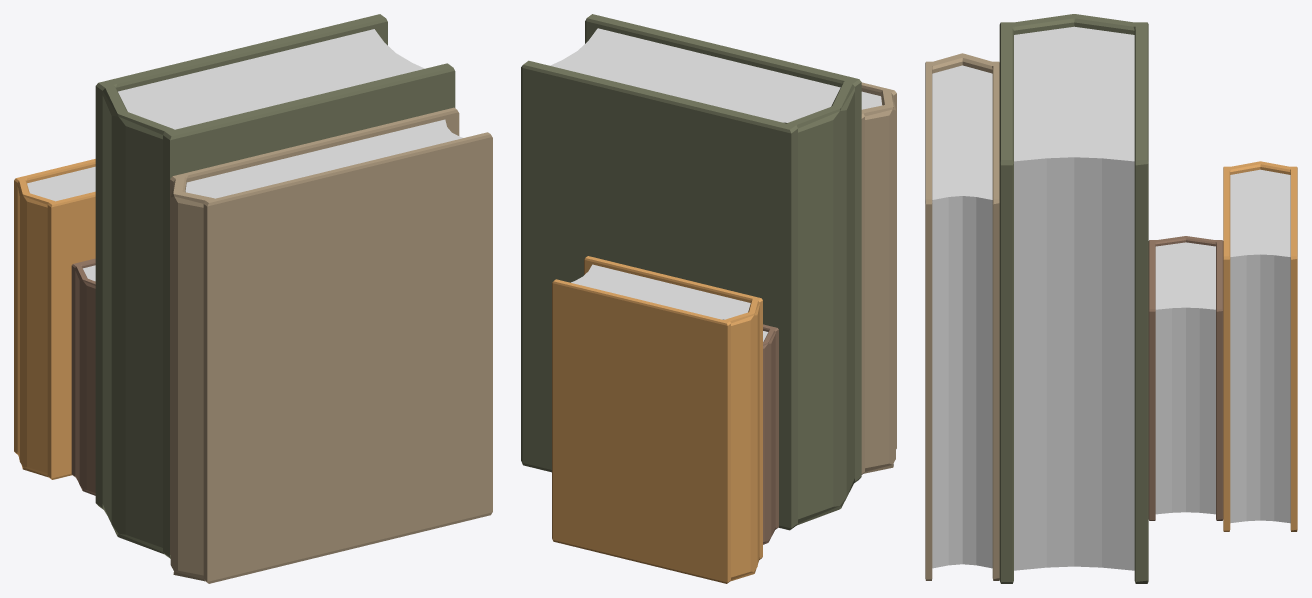
Rendered from BooksStanding.fbx.
3 views of the same model, side by side, from view 1: azimuth 30°, elevation 25°; view 2: azimuth 150°, elevation 25°; view 3: azimuth 270°, elevation 25° (orthographic). The views are drawn at different scales.
Visible parts, largest first — view 1: book.003, book.001, book.004, book.002; view 2: book.001, book.004, book.003, book.002; view 3: book.001, book.003, book.004, book.002.
Boxes of the visible parts, x1,y1,x2,y2 form: book.003: (170, 107, 492, 583); book.001: (95, 14, 455, 558); book.004: (14, 159, 95, 479); book.002: (71, 258, 95, 495); book.001: (521, 14, 861, 530); book.004: (552, 256, 762, 583); book.003: (861, 82, 896, 474); book.002: (763, 324, 778, 544); book.001: (999, 14, 1148, 583); book.003: (925, 53, 999, 580); book.004: (1223, 161, 1297, 531); book.002: (1148, 236, 1223, 520).
Bounding box in the file's own units: 0.2448 × 0.2304 × 0.3076.
